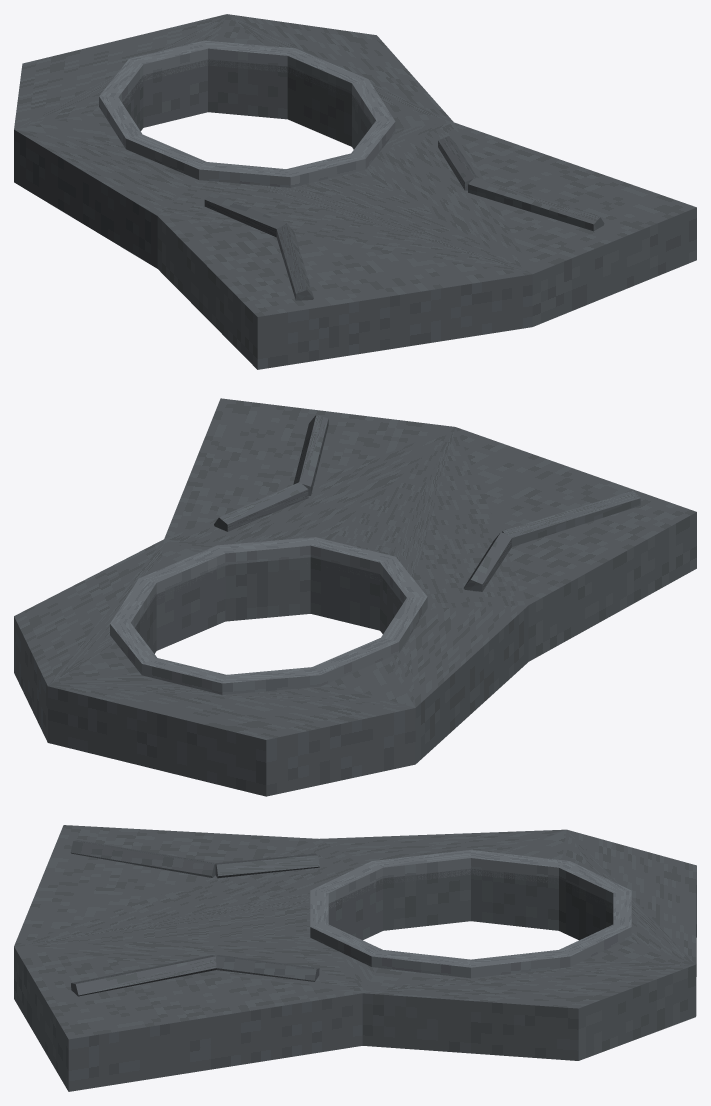
The model's file is hijab.glb.
3 views of the same model, one above another, from view 1: azimuth 30°, elevation 25°; view 2: azimuth 150°, elevation 25°; view 3: azimuth 270°, elevation 25° (orthographic). The views are drawn at different scales.
Parts seen in each view (by area): view 1: block_shaped face opening and fabric, block_stitched face border, block_cloth folds 1 (×2), block_cloth folds 0 (×2); view 2: block_shaped face opening and fabric, block_stitched face border, block_cloth folds 1 (×2), block_cloth folds 0 (×2); view 3: block_shaped face opening and fabric, block_stitched face border, block_cloth folds 1 (×2), block_cloth folds 0 (×2).
Part boxes in pixels (x1=…): block_shaped face opening and fabric: x1=14, y1=14, x2=696, y2=369; block_stitched face border: x1=99, y1=40, x2=395, y2=187; block_cloth folds 1 (×2): x1=276, y1=177, x2=604, y2=300; block_cloth folds 0 (×2): x1=204, y1=136, x2=477, y2=237; block_shaped face opening and fabric: x1=14, y1=398, x2=696, y2=796; block_stitched face border: x1=110, y1=537, x2=427, y2=694; block_cloth folds 1 (×2): x1=293, y1=414, x2=640, y2=546; block_cloth folds 0 (×2): x1=214, y1=482, x2=511, y2=591; block_shaped face opening and fabric: x1=14, y1=825, x2=696, y2=1091; block_stitched face border: x1=310, y1=850, x2=631, y2=978; block_cloth folds 1 (×2): x1=70, y1=840, x2=216, y2=996; block_cloth folds 0 (×2): x1=215, y1=854, x2=319, y2=981.
Size of the model in its own units: 0.1117 by 0.0156 by 0.1503.
1 material, 1 textured.
